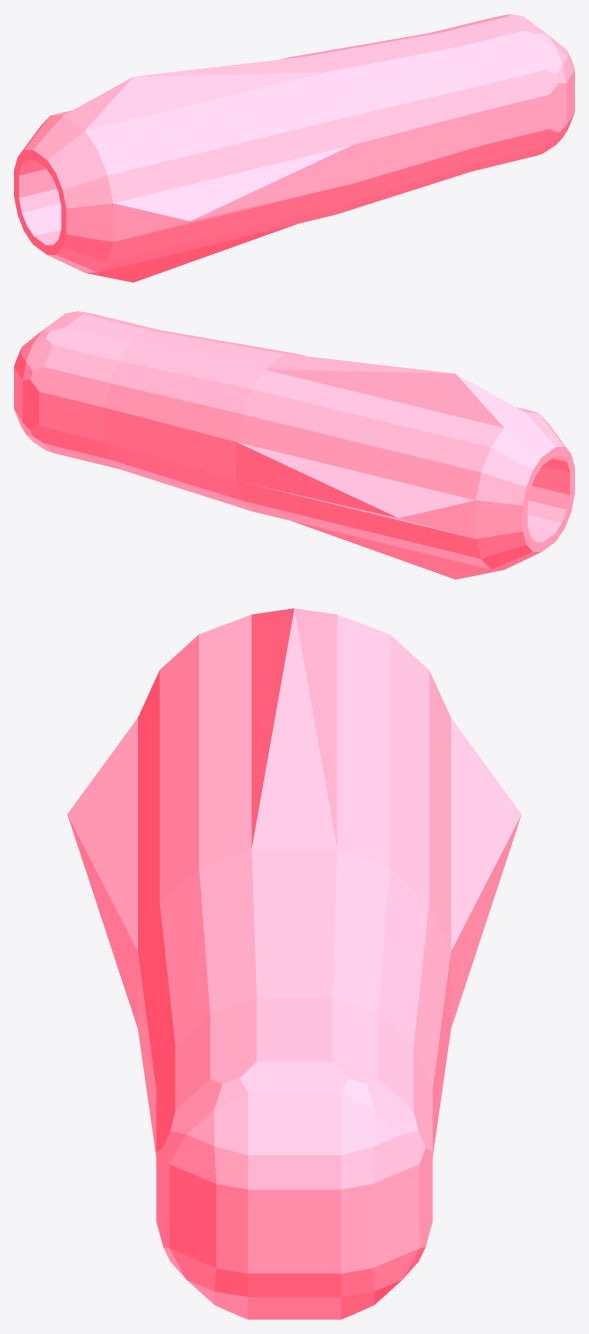
File: Missile.fbx
The picture shows the model from 3 angles, top to bottom: view 1: azimuth 30°, elevation 25°; view 2: azimuth 150°, elevation 25°; view 3: azimuth 270°, elevation 25°; orthographic projection. The views are drawn at different scales.
Parts seen in each view (by area): view 1: Cube; view 2: Cube; view 3: Cube.
Boxes of the visible parts, box(x1,y1,x2,y2) form: Cube: box(14, 14, 574, 282); Cube: box(14, 311, 574, 579); Cube: box(67, 608, 521, 1319).
Bounding box in the file's own units: 870 × 329 × 329.
